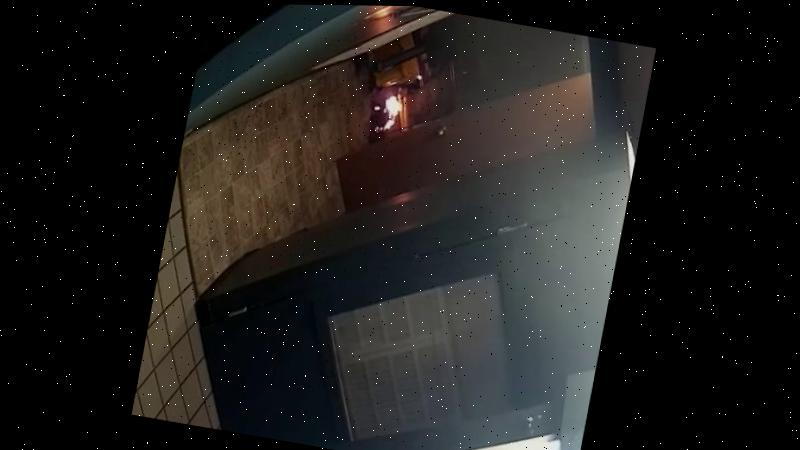fire: (347, 79, 429, 140)
